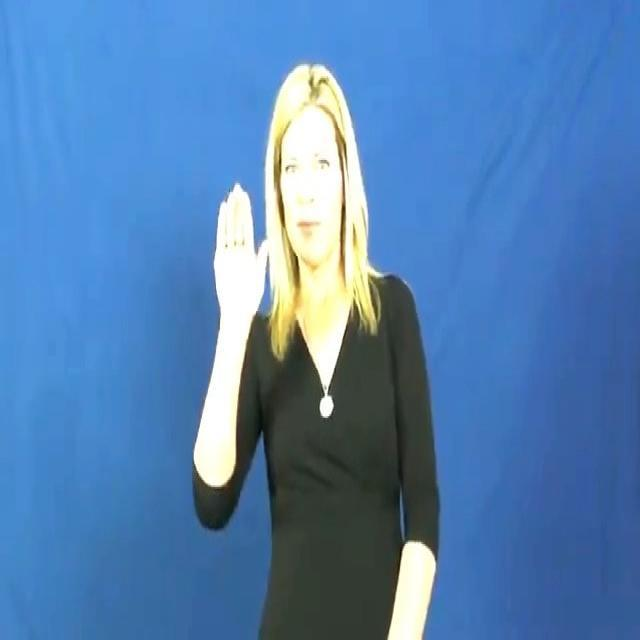bye: (204, 165, 281, 339)
